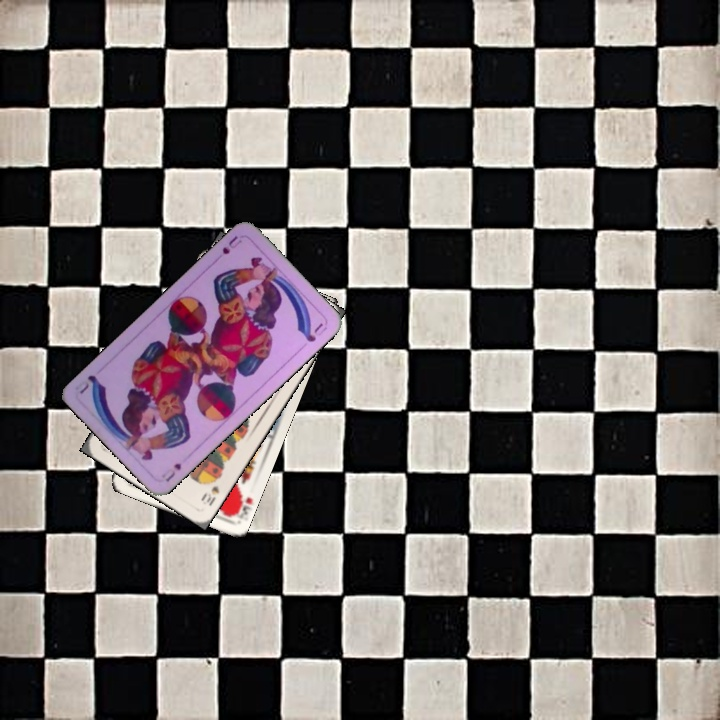HK: (227, 486, 255, 521)
S10: (197, 473, 223, 509)
SU: (212, 232, 244, 264), (161, 459, 184, 485)
